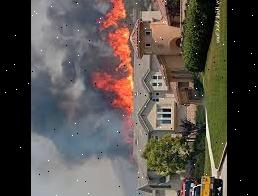fire: (71, 0, 133, 144)
